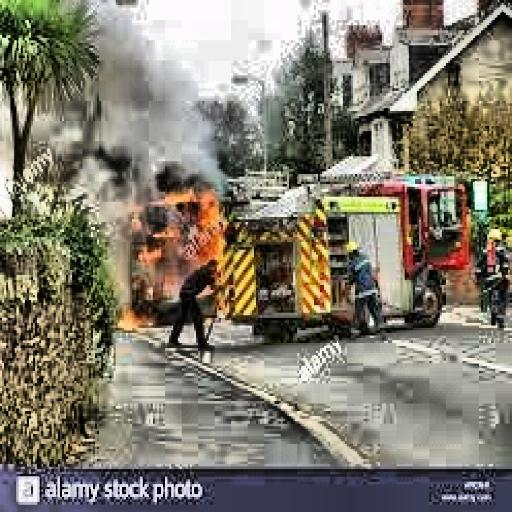fire: (124, 179, 248, 310)
